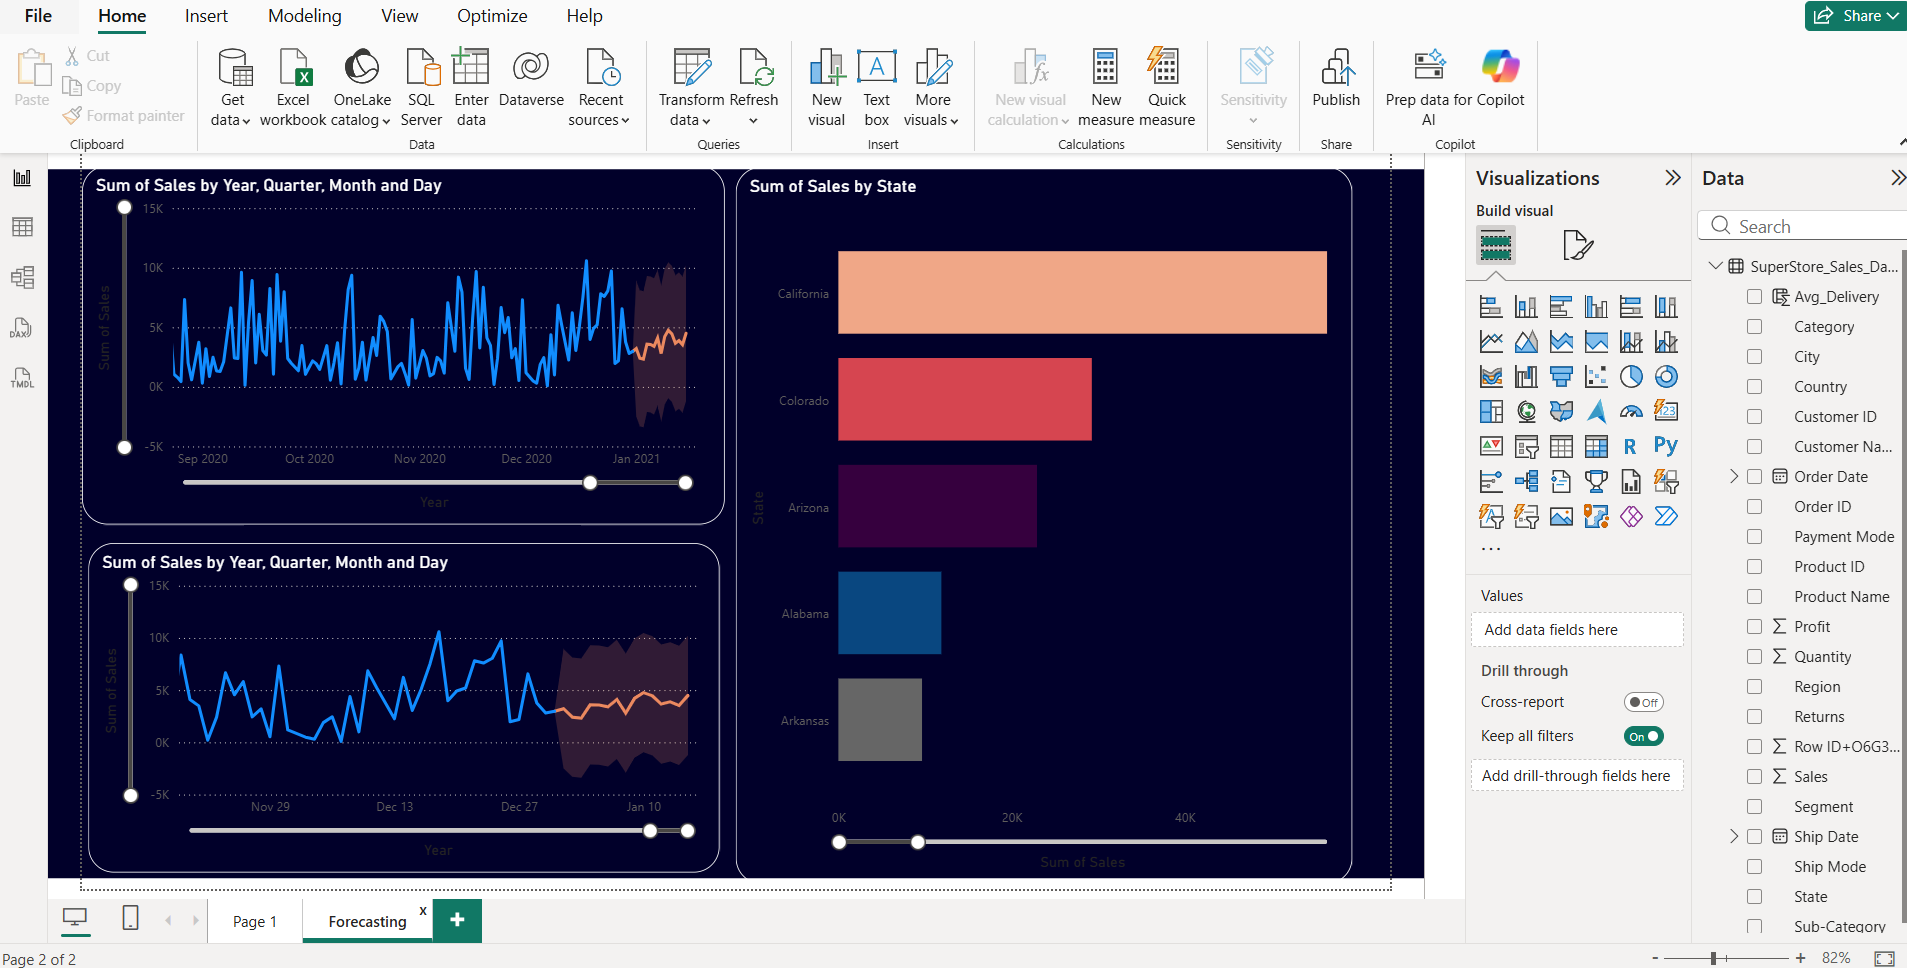

The dashboard page shown, as its layout file describes it:
{"tool":"powerbi","page":{"name":"Forecasting","canvas":[1280,720],"ordinal":1},"visuals":[{"type":"lineChart","fields":{"Y":["Sum(SuperStore_Sales_Dataset.Sales)"],"Category":["SuperStore_Sales_Dataset.Order Date.Variation.Date Hierarchy.Year","SuperStore_Sales_Dataset.Order Date.Variation.Date Hierarchy.Quarter","SuperStore_Sales_Dataset.Order Date.Variation.Date Hierarchy.Month","SuperStore_Sales_Dataset.Order Date.Variation.Date Hierarchy.Day"]},"box":[0,12.5,628.8,351.2],"z":0},{"type":"barChart","fields":{"Category":["SuperStore_Sales_Dataset.State"],"Y":["Sum(SuperStore_Sales_Dataset.Sales)"]},"box":[640,12.9,602.9,701.4],"z":1000},{"type":"lineChart","fields":{"Y":["Sum(SuperStore_Sales_Dataset.Sales)"],"Category":["SuperStore_Sales_Dataset.Order Date.Variation.Date Hierarchy.Year","SuperStore_Sales_Dataset.Order Date.Variation.Date Hierarchy.Quarter","SuperStore_Sales_Dataset.Order Date.Variation.Date Hierarchy.Month","SuperStore_Sales_Dataset.Order Date.Variation.Date Hierarchy.Day"]},"box":[6.2,381.2,617.5,322.5],"z":2000}]}

Visuals, with their boxes on the page's 1280x720 design canvas (x1, y1, x2, y2). These are canvas units, not pixel positions in the 1907x968 screenshot, which may show the page scaled, cropped or inside an application window:
lineChart - Sum(SuperStore_Sales_Dataset.Sales) x SuperStore_Sales_Dataset.Order Date.Variation.Date Hierarchy.Year: left=0, top=12, right=629, bottom=364
barChart - SuperStore_Sales_Dataset.State x Sum(SuperStore_Sales_Dataset.Sales): left=640, top=13, right=1243, bottom=714
lineChart - Sum(SuperStore_Sales_Dataset.Sales) x SuperStore_Sales_Dataset.Order Date.Variation.Date Hierarchy.Year: left=6, top=381, right=624, bottom=704
